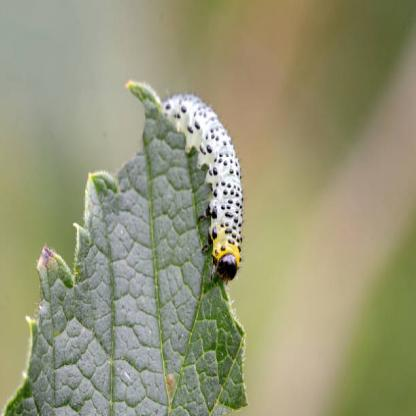sawfly: (150, 85, 252, 285)
